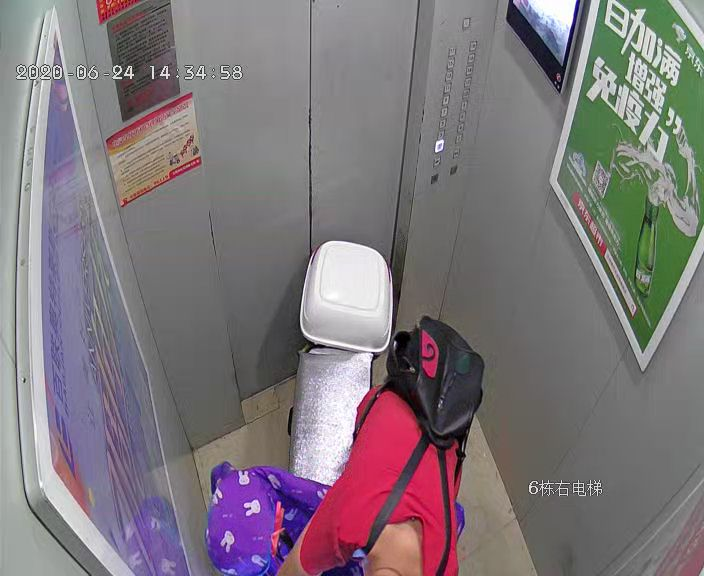Electric-bicycle: (224, 239, 402, 572)
